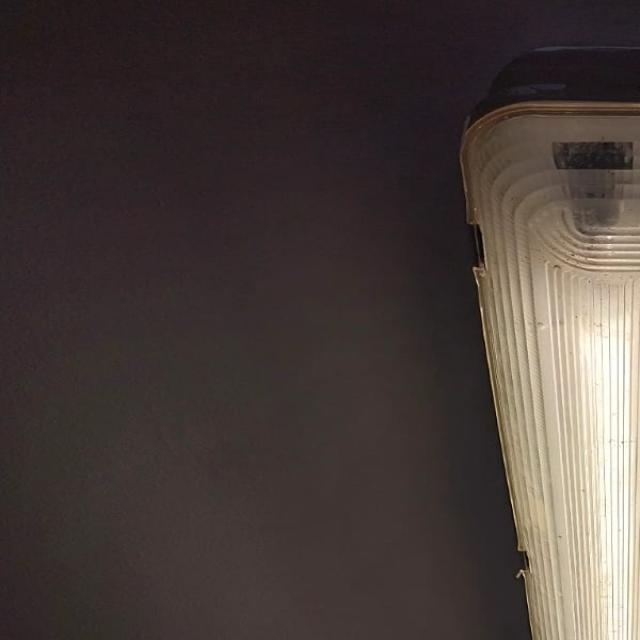fluorescent tube: (437, 37, 639, 640)
